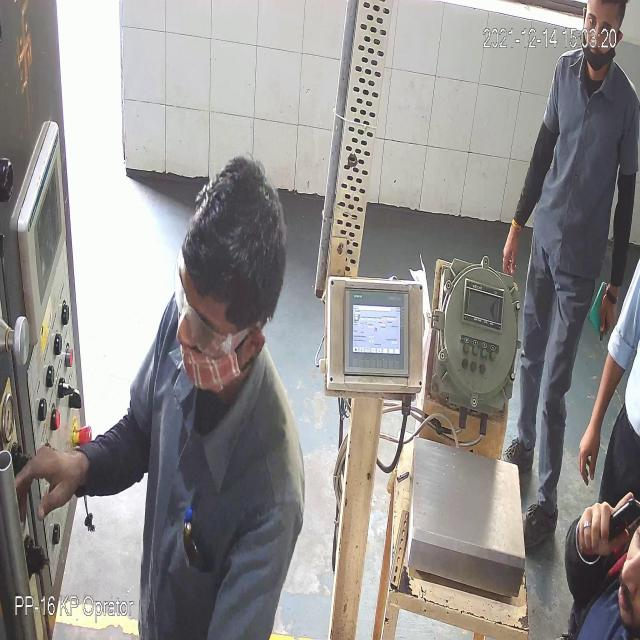No_Gloves: (24, 62, 600, 478)
